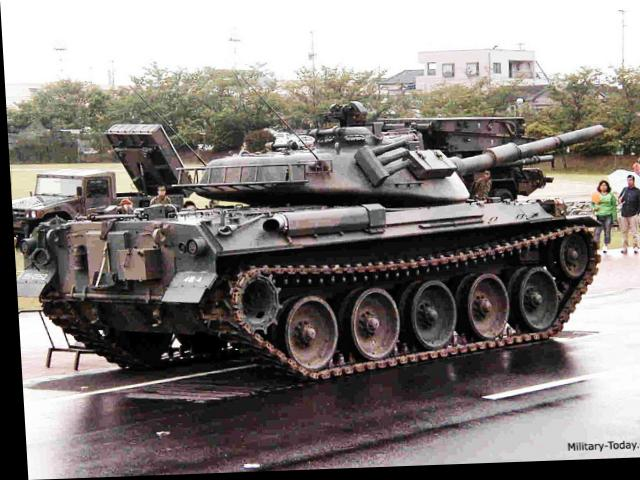other: (615, 179, 640, 261), (589, 179, 616, 250), (146, 182, 173, 213)
tank: (57, 95, 607, 391)
